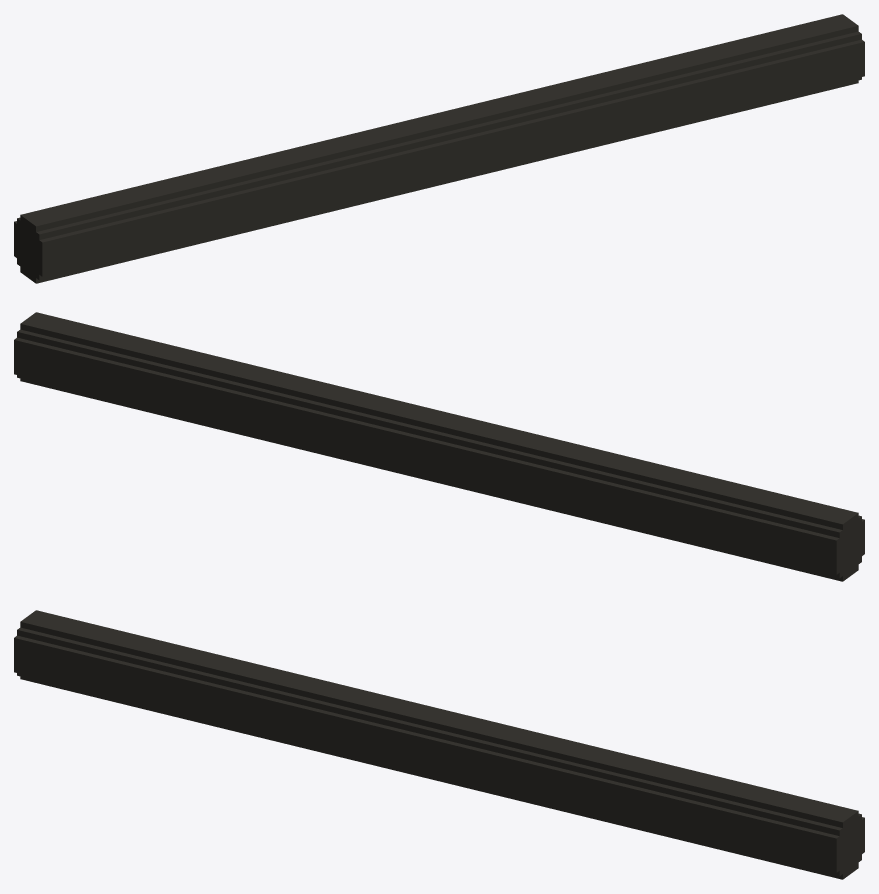
The model's file is factory4.4-18.obj.
3 views of the same model, one above another, from view 1: azimuth 30°, elevation 25°; view 2: azimuth 150°, elevation 25°; view 3: azimuth 330°, elevation 25° (orthographic).
Bounding box in the file's own units: 15 × 1 × 0.9.
1 material, 1 textured.
